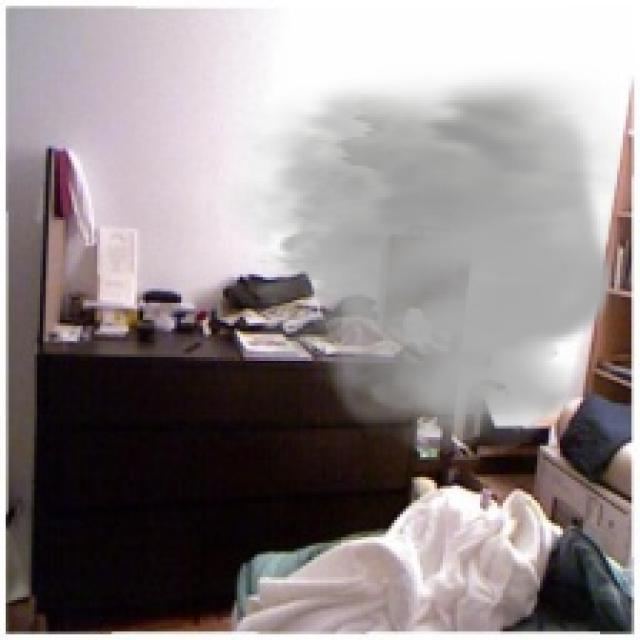Smoke: (205, 62, 620, 458)
